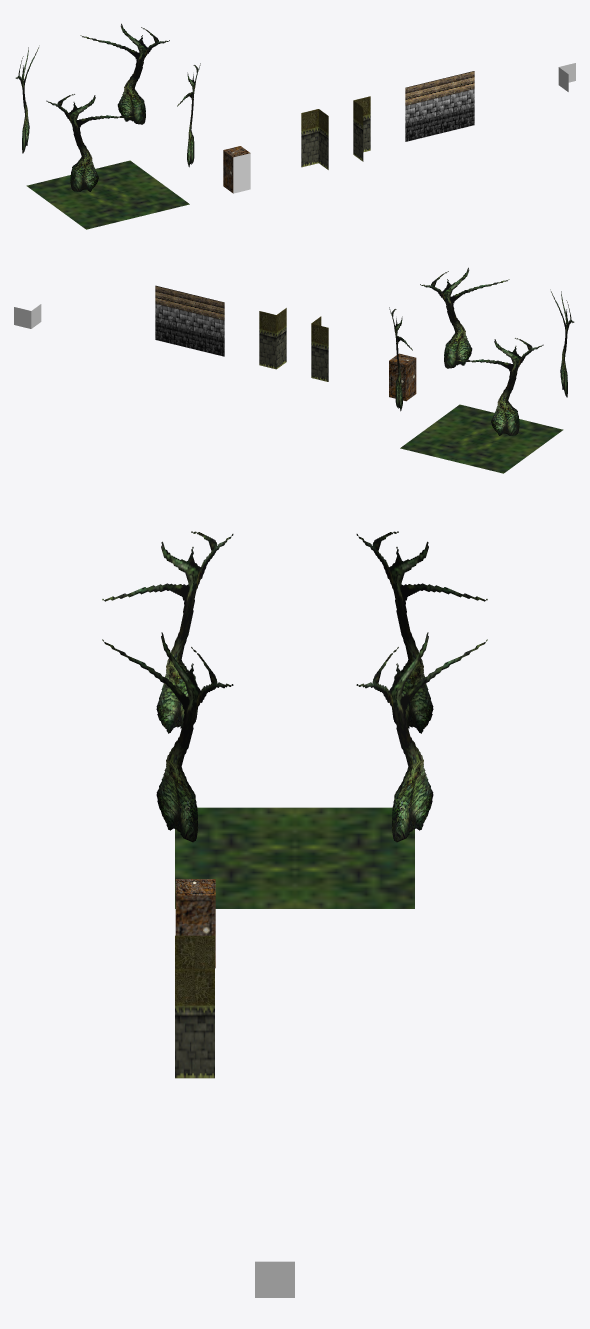
File: 2048PiecesFixed.fbx
The picture shows the model from 3 angles, top to bottom: view 1: azimuth 30°, elevation 25°; view 2: azimuth 150°, elevation 25°; view 3: azimuth 270°, elevation 25°; orthographic projection. The views are drawn at different scales.
Parts seen in each view (by area): view 1: Tile, Wall, Opening, Door; view 2: Tile, Wall, Opening, Door, Cube.002; view 3: Tile, Opening, Door, Cube.001.
Boxes of the visible parts, x1,y1,x2,y2 form: Tile: [15, 23, 200, 229]; Wall: [405, 71, 474, 141]; Opening: [301, 96, 370, 169]; Door: [223, 146, 250, 193]; Tile: [389, 267, 574, 473]; Wall: [155, 285, 224, 356]; Opening: [259, 308, 328, 381]; Door: [389, 353, 416, 401]; Cube.002: [14, 307, 31, 328]; Tile: [102, 531, 487, 908]; Opening: [175, 935, 214, 1078]; Door: [175, 879, 215, 968]; Cube.001: [255, 1261, 294, 1297].
Size of the model in its own units: 3167 by 765 by 1089.
